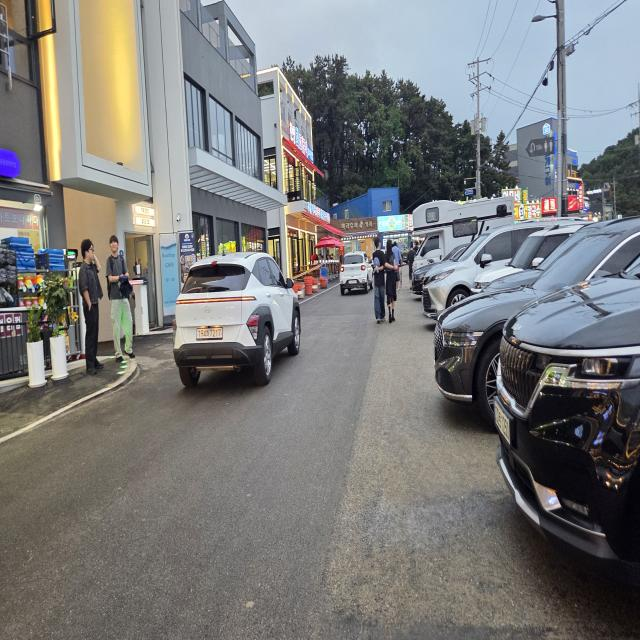car: (484, 230, 640, 608), (425, 208, 640, 440), (158, 230, 318, 403), (418, 224, 624, 323), (335, 238, 378, 302)
